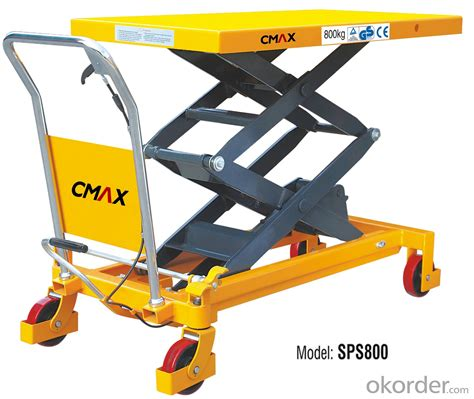Scissor Lift: (3, 8, 462, 394)
